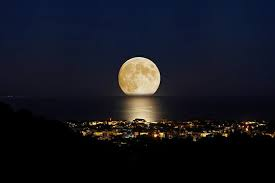moon: (116, 56, 161, 97)
